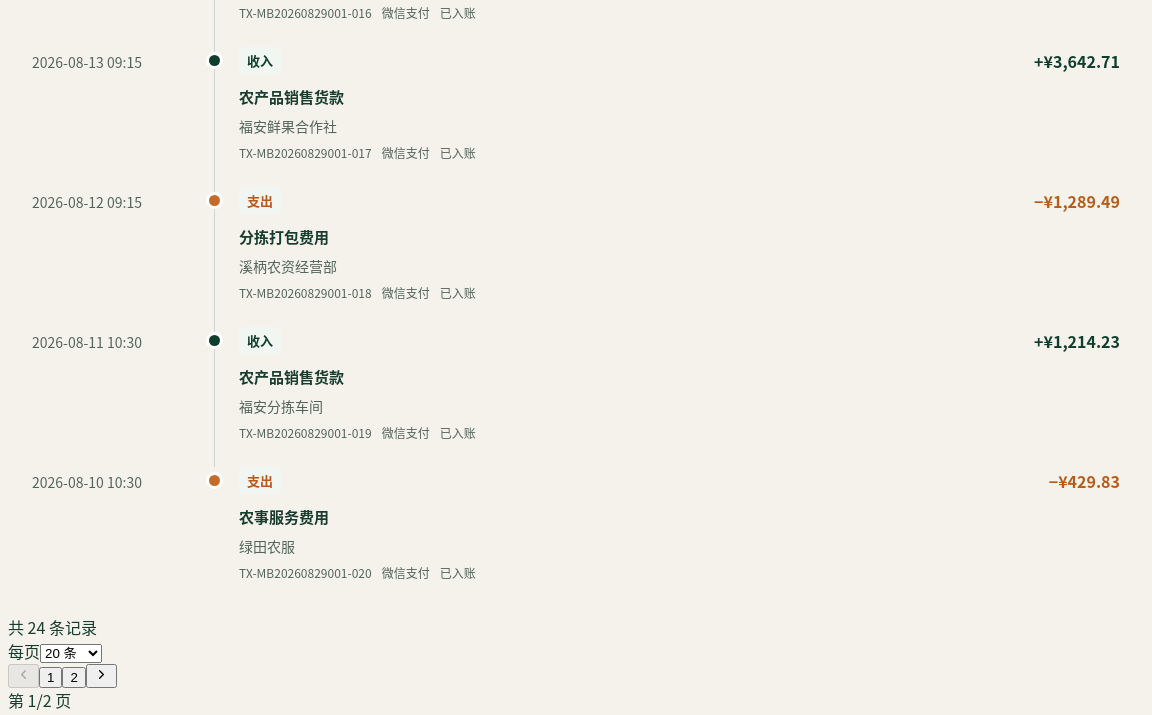
Test: 会员收支列表交互 › 收支类型筛选、搜索空态和图标重置可用
(page scrolled)
Click the button named "下一页": click(101, 676) [86, 664, 117, 688]
(page scrolled)
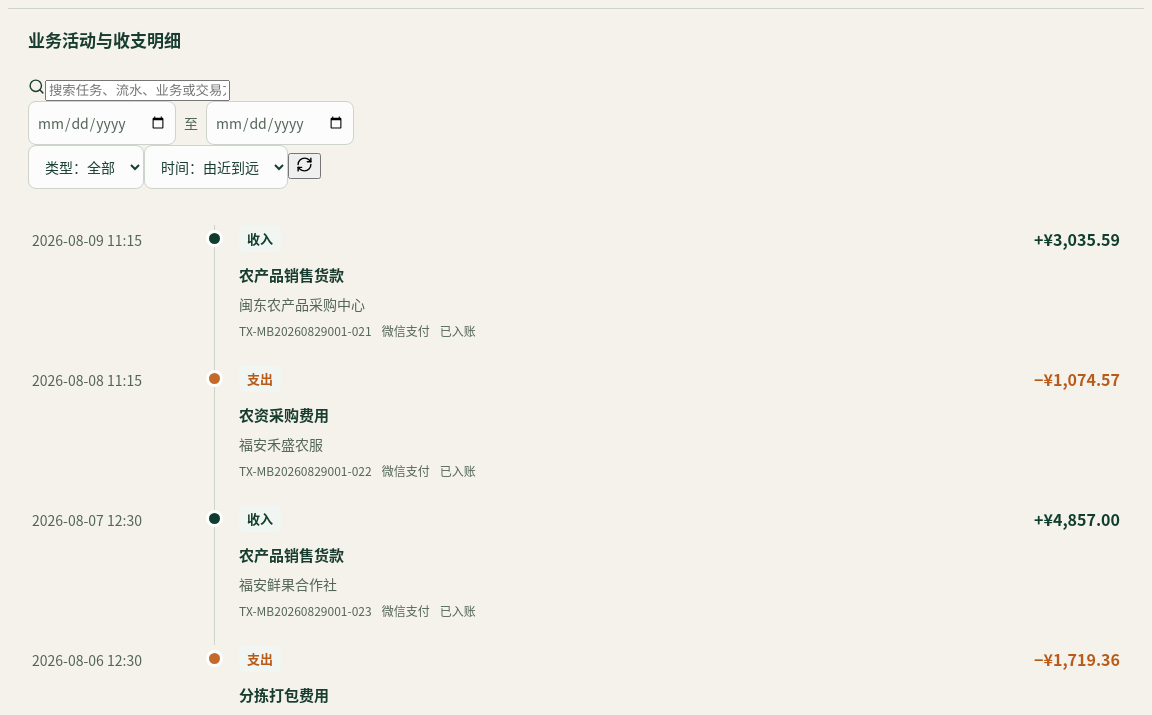
Select "收入" in the dropdown named "记录类型": (86, 167) [28, 145, 144, 189]
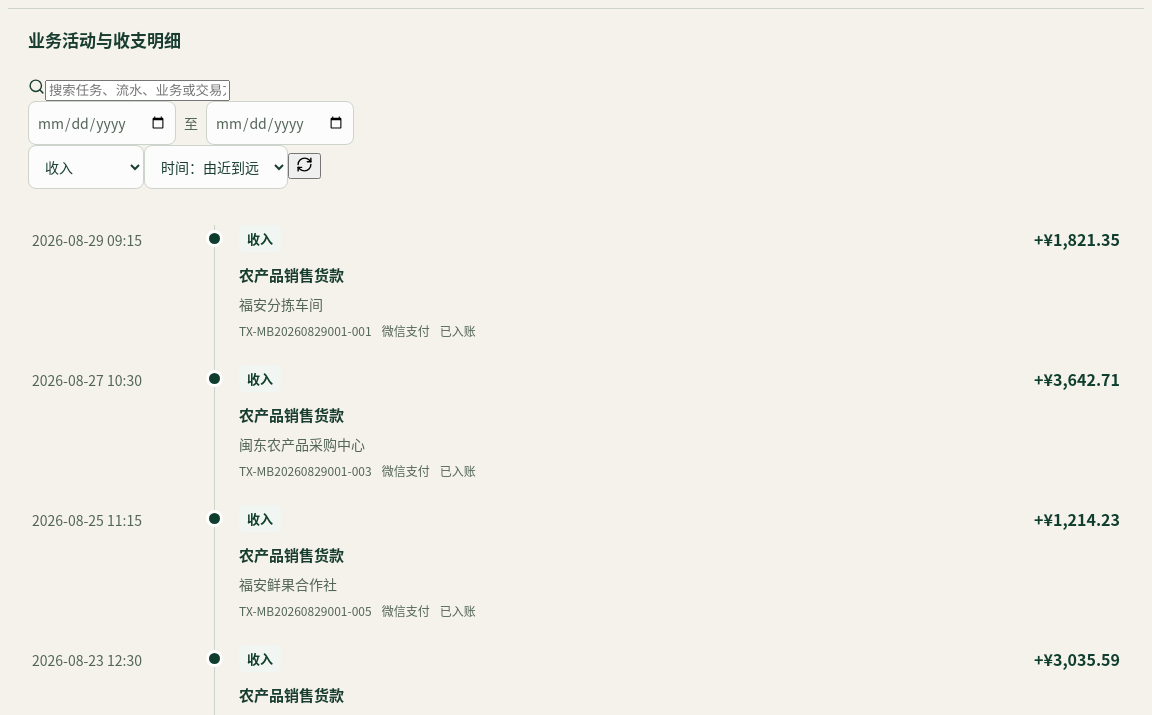
Expected: the number of list items is 12
In the field named "搜索收支明细": (138, 90) [45, 80, 230, 101], type "不存在的交易"
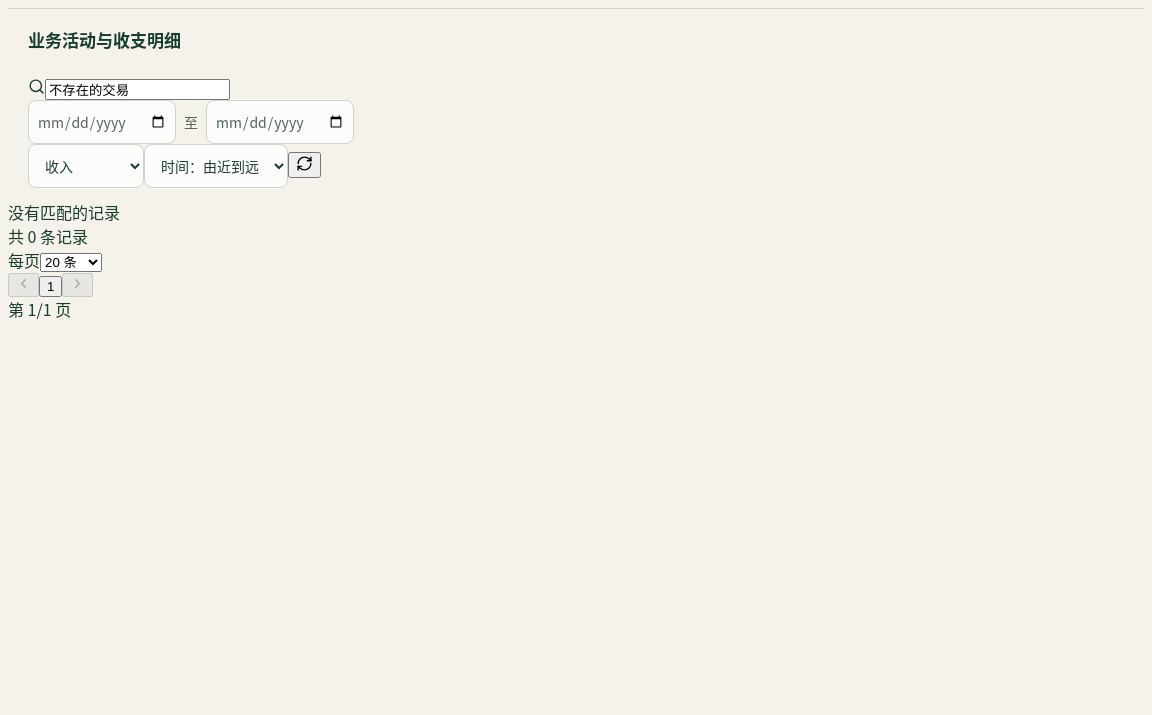
Expected: the text "没有匹配的记录" is shown, [8, 200, 120, 224]
Click the button named "重置收支筛选": click(304, 165) [288, 152, 321, 178]
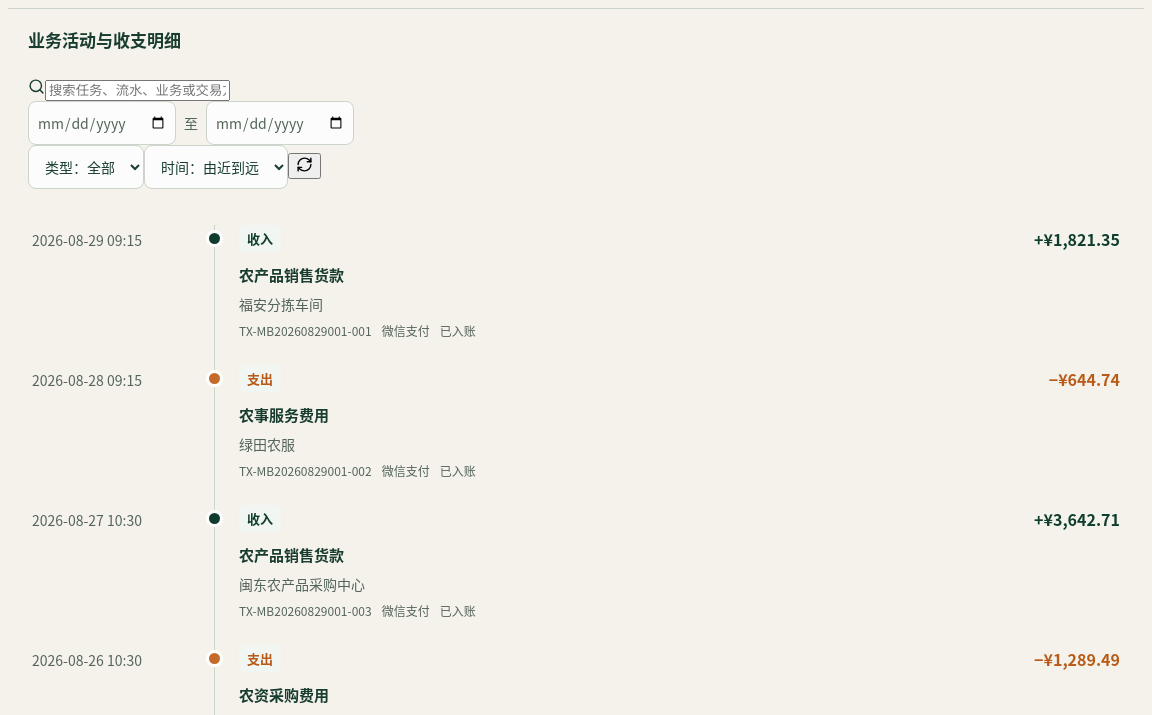
Expected: the number of list items is 20
